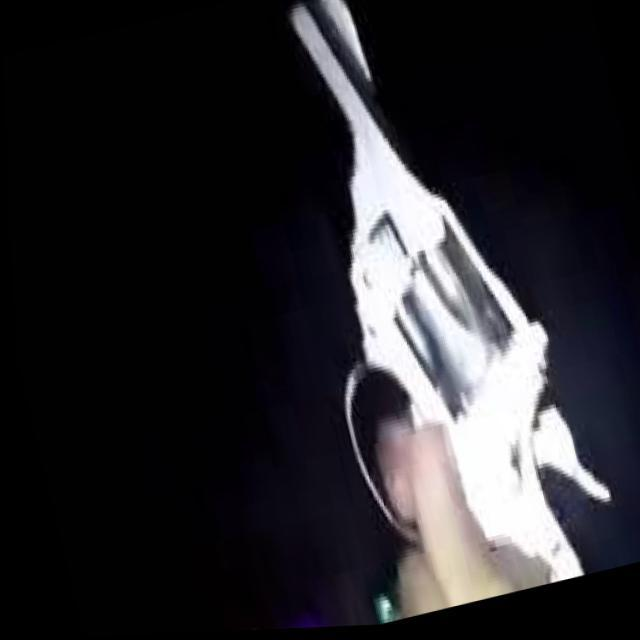weapon: (232, 0, 627, 631)
